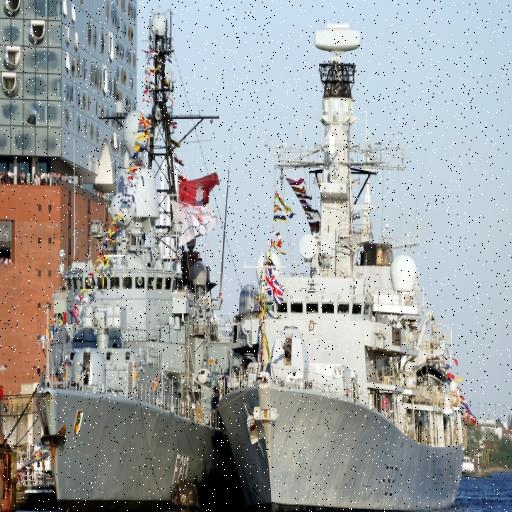Fragata: (219, 1, 473, 512), (30, 1, 228, 512)
